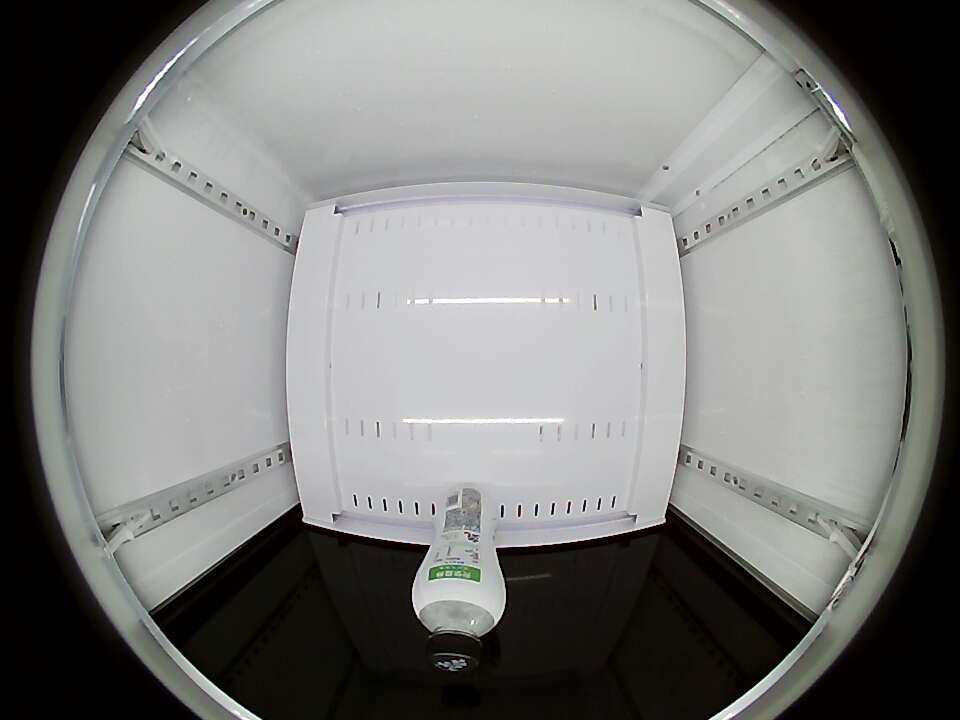yuanqishui: (412, 564, 507, 675)
